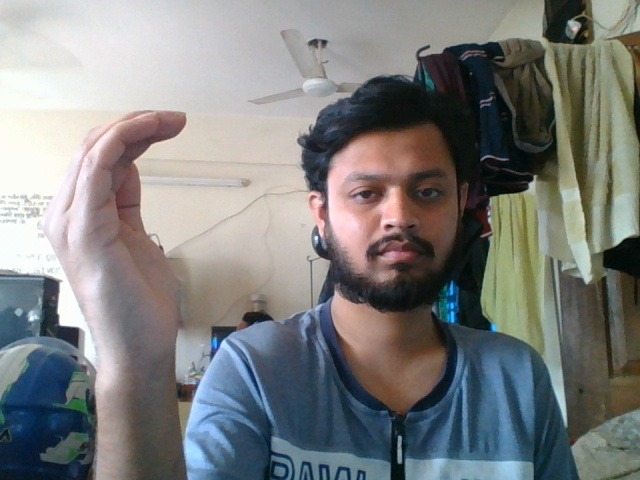ga: (39, 91, 203, 448)
